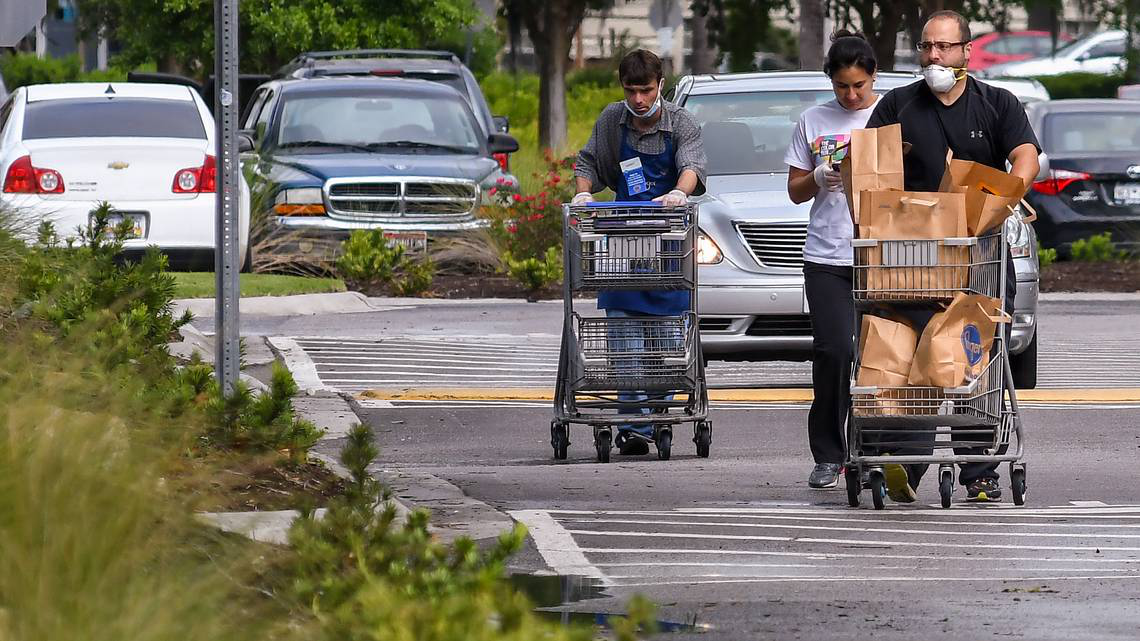mask_weared_incorrect: (918, 18, 973, 93), (619, 73, 666, 120)
